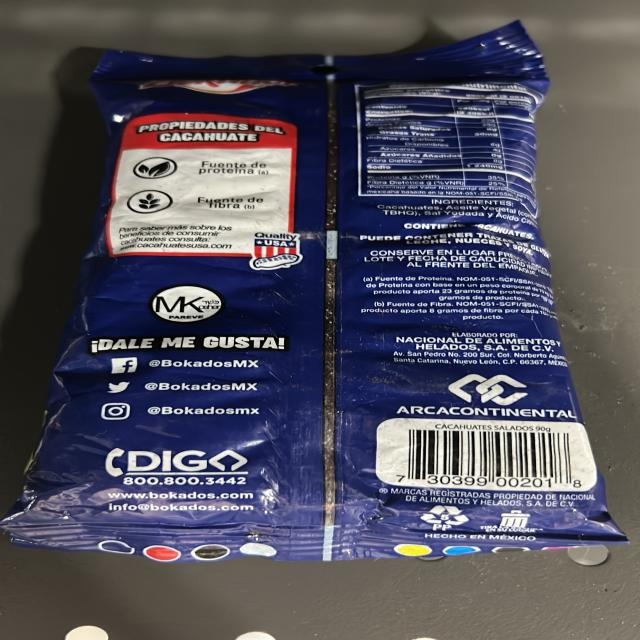productoAtras: (117, 55, 538, 547)
